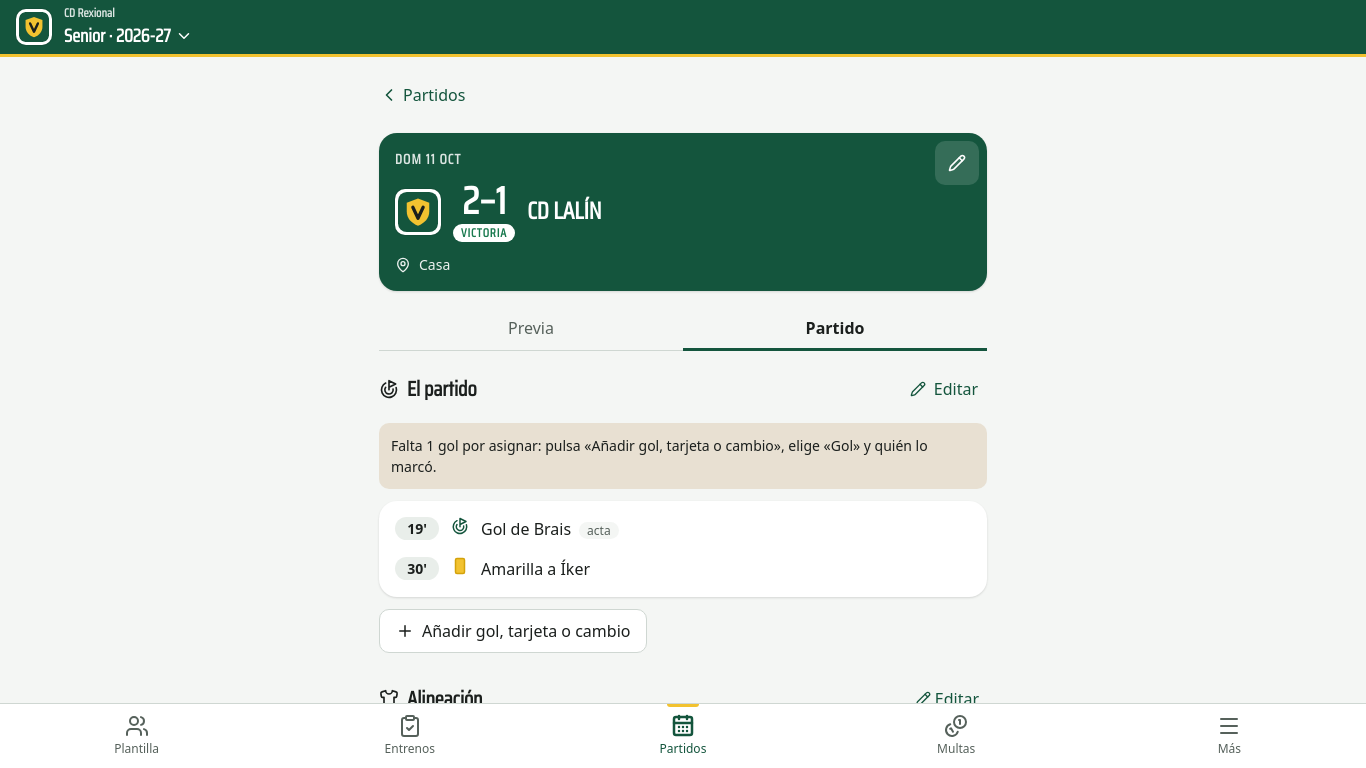
partido jugado › se borra un evento con confirmación
Click the button with aria-label "Editar el partido" at {"x": 944, "y": 389}, box top-left (901, 367), bottom-right (987, 411)
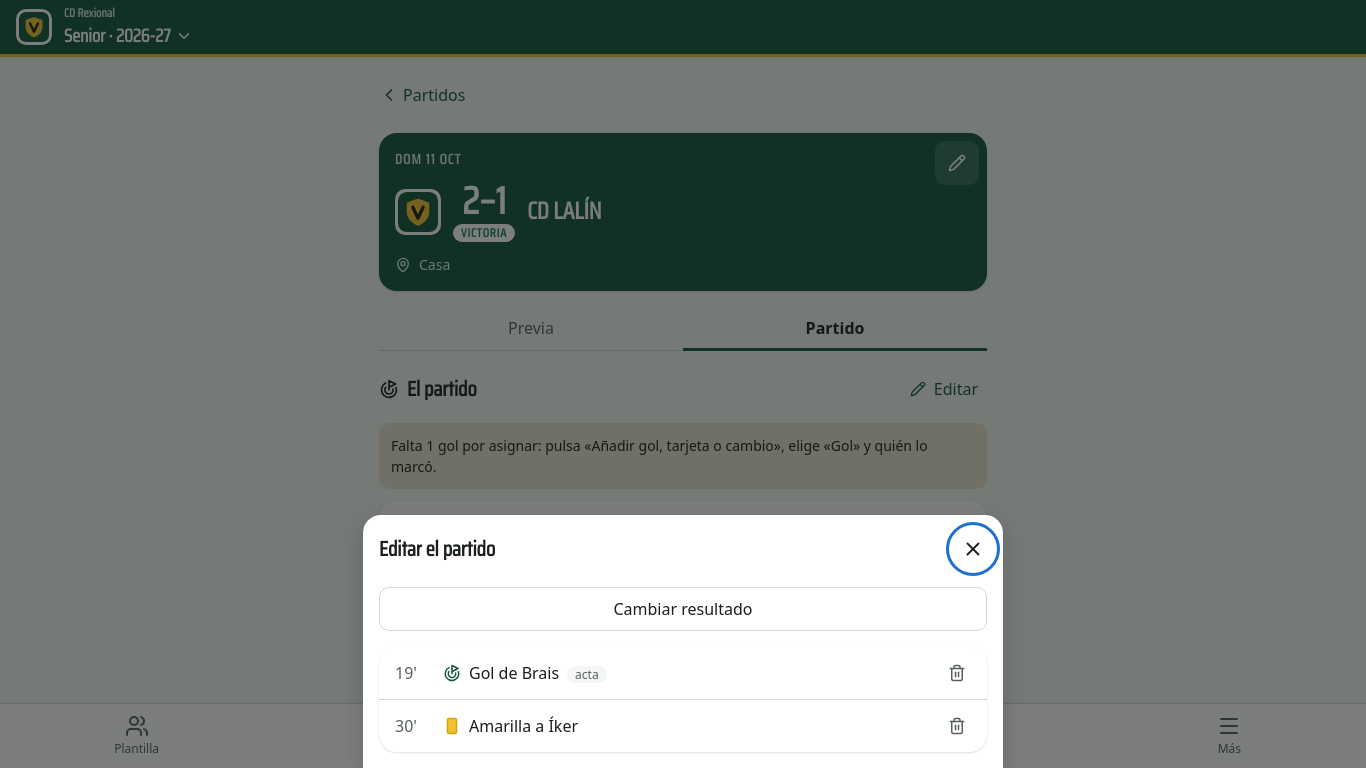
Click the button named "Borrar: Amarilla a Íker" at {"x": 957, "y": 726}, box top-left (935, 704), bottom-right (979, 748)
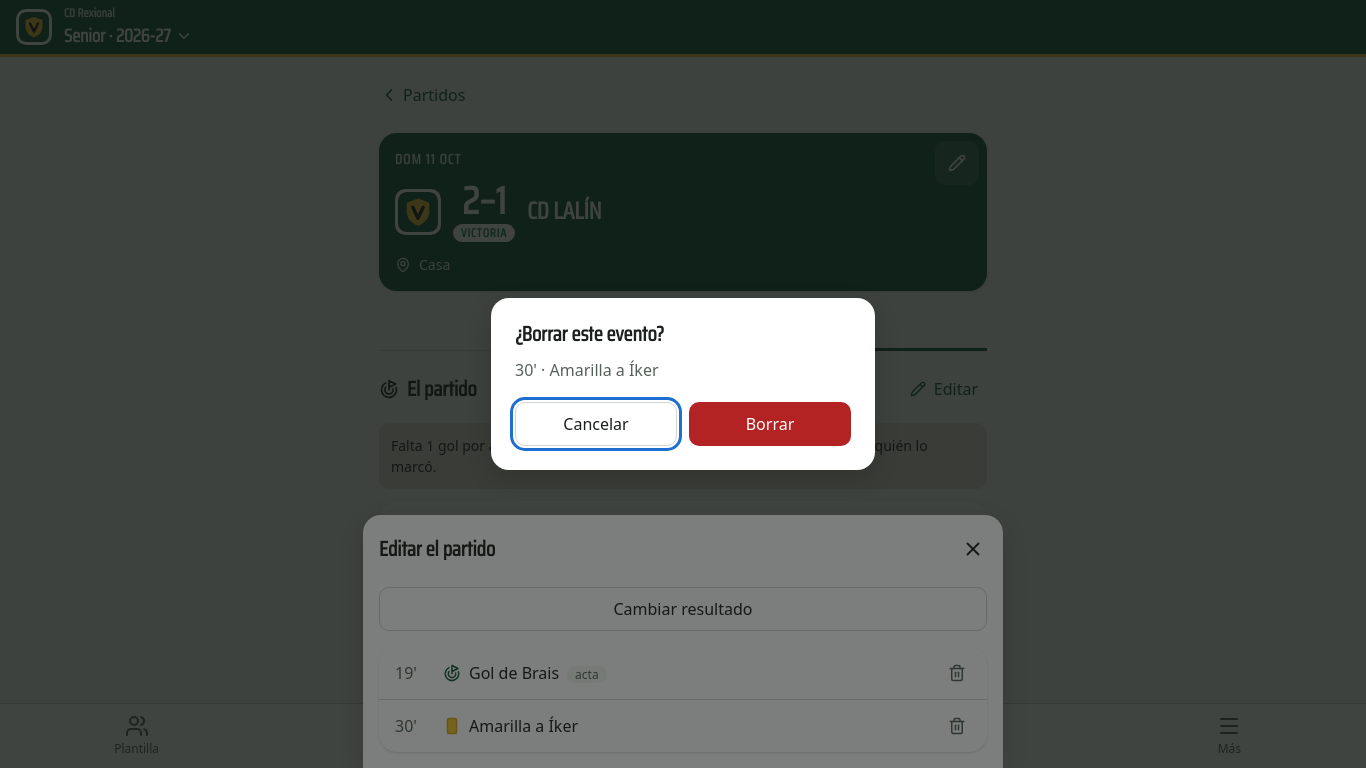
Click the button "Borrar" at {"x": 770, "y": 424}, box top-left (689, 402), bottom-right (851, 446)
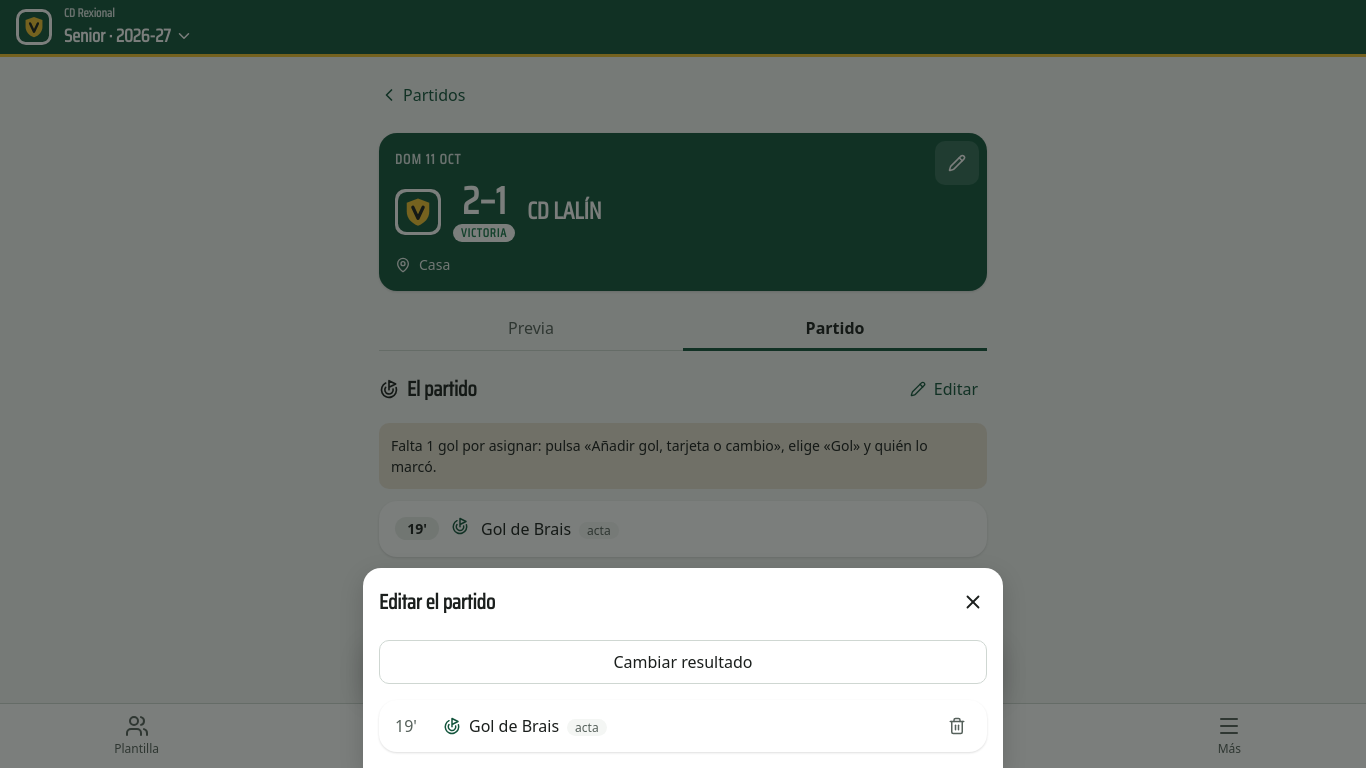
Expected: the list named "Línea de tiempo" no longer shows "Amarilla", top-left (379, 501), bottom-right (987, 557)
